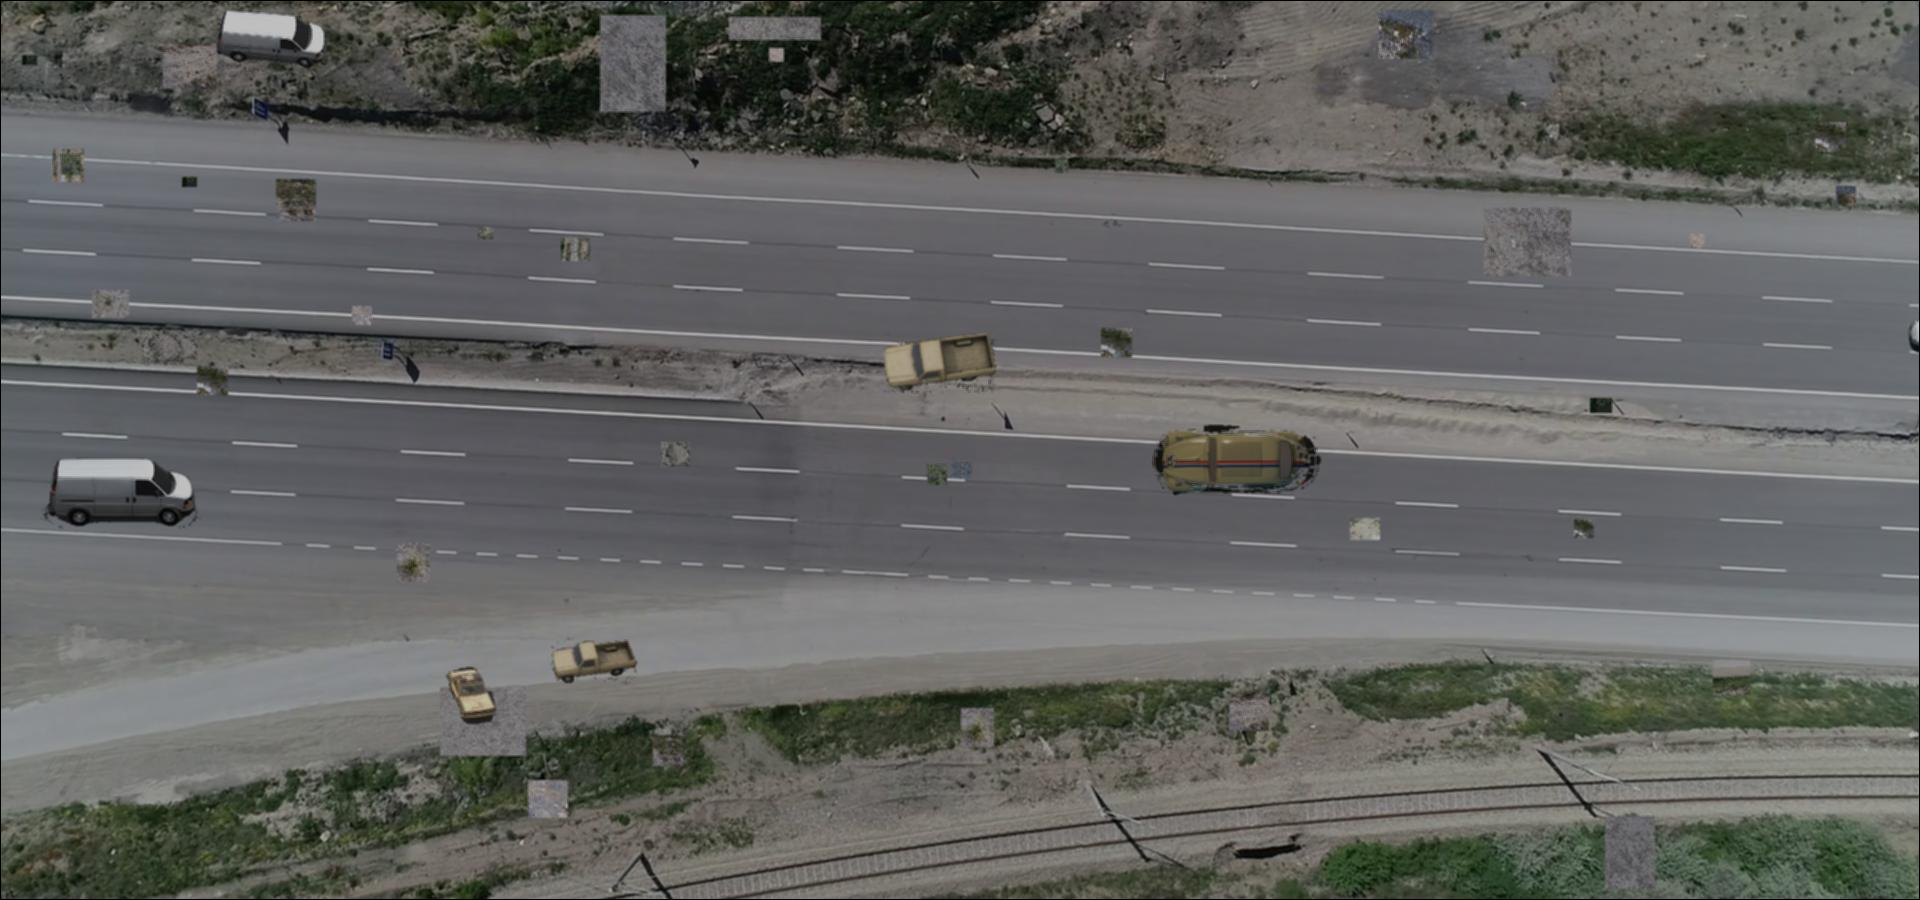arac: (1150, 424, 1324, 498), (40, 457, 201, 528), (212, 10, 331, 71), (884, 334, 996, 393), (550, 638, 637, 684), (443, 666, 500, 724)
